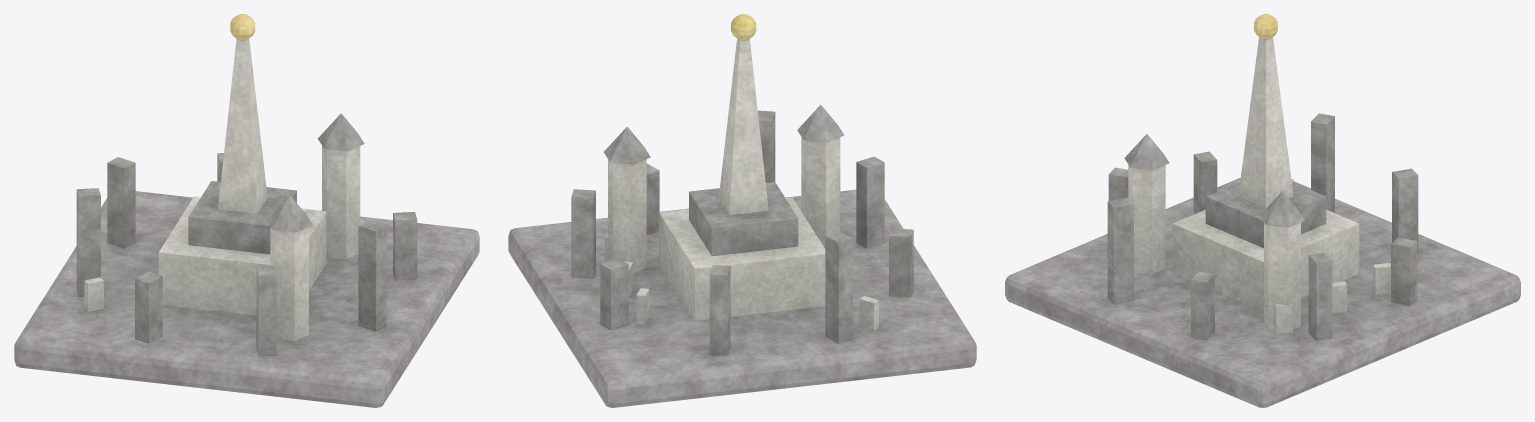
The model's file is capital_vhorren.glb.
The picture shows the model from 3 angles, left to right: view 1: azimuth 30°, elevation 25°; view 2: azimuth 150°, elevation 25°; view 3: azimuth 270°, elevation 25°; orthographic projection. The views are drawn at different scales.
Visible parts, largest first — view 1: dilek; view 2: dilek; view 3: dilek.
Part boxes in pixels (x1,y1,x2,y2): dilek: [14, 14, 479, 407]; dilek: [508, 14, 976, 407]; dilek: [1005, 14, 1520, 407].
Bounding box in the file's own units: 2.42 × 1.48 × 2.42.
1 material, 1 textured.
